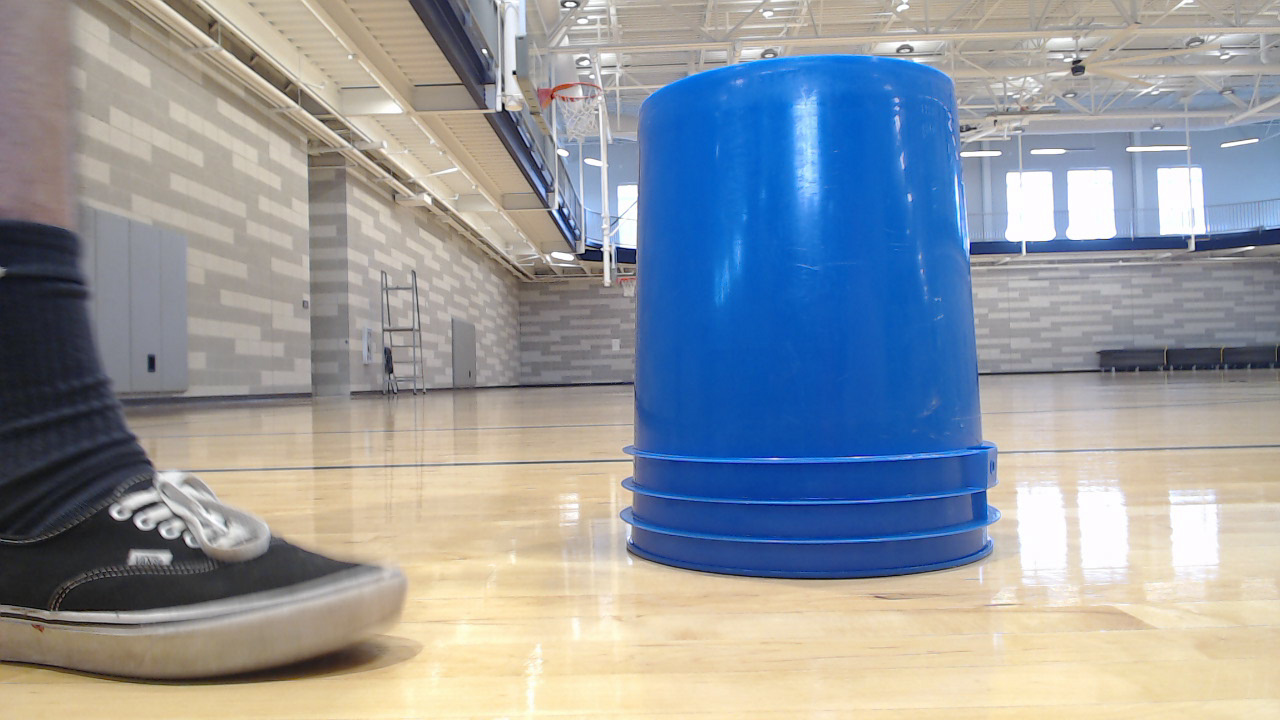blue_bucket: (627, 60, 1007, 587)
